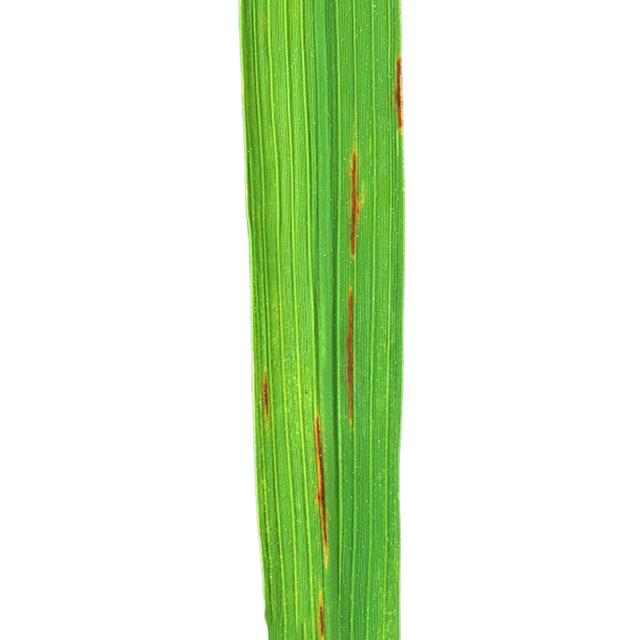Narrow brown: (200, 0, 430, 640)
